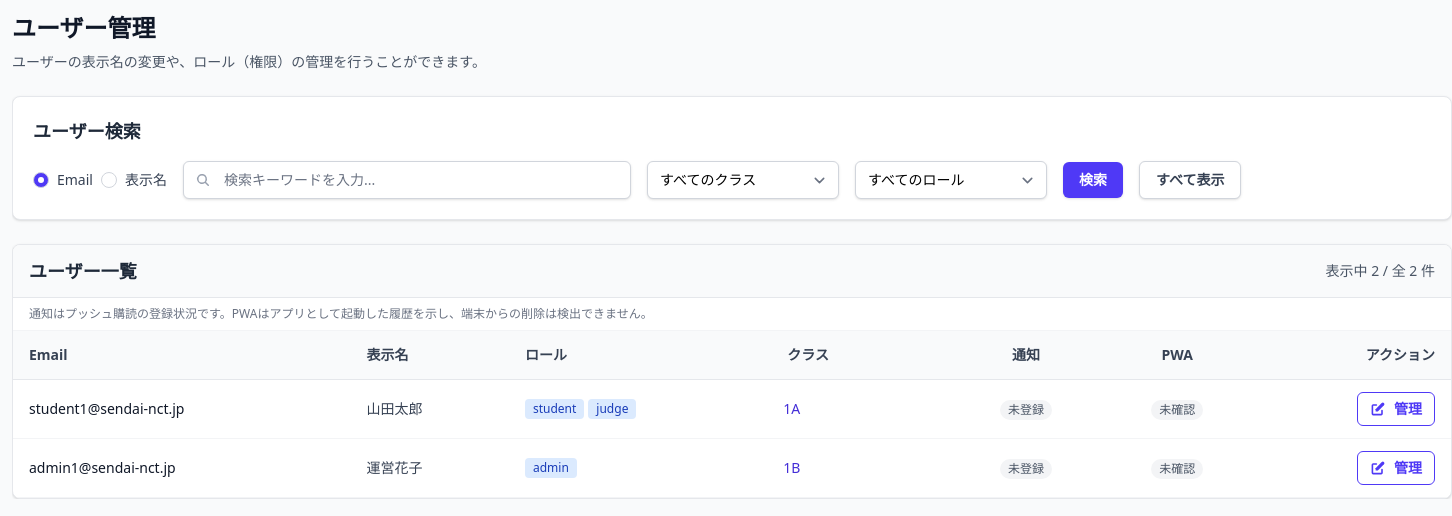
Test case: Change Username Page › クラスでユーザー一覧を絞り込みできる
Expected: the text "student1@sendai-nct.jp" is shown, [13,380,350,438]
Expected: the text named "表示中ユーザー数" reads "表示中 2 / 全 2 件", [1326,261,1435,280]
Step 1. Select "1B" in the dropdown named "クラスで絞り込み" → point(743, 180), box [647,161,839,199]
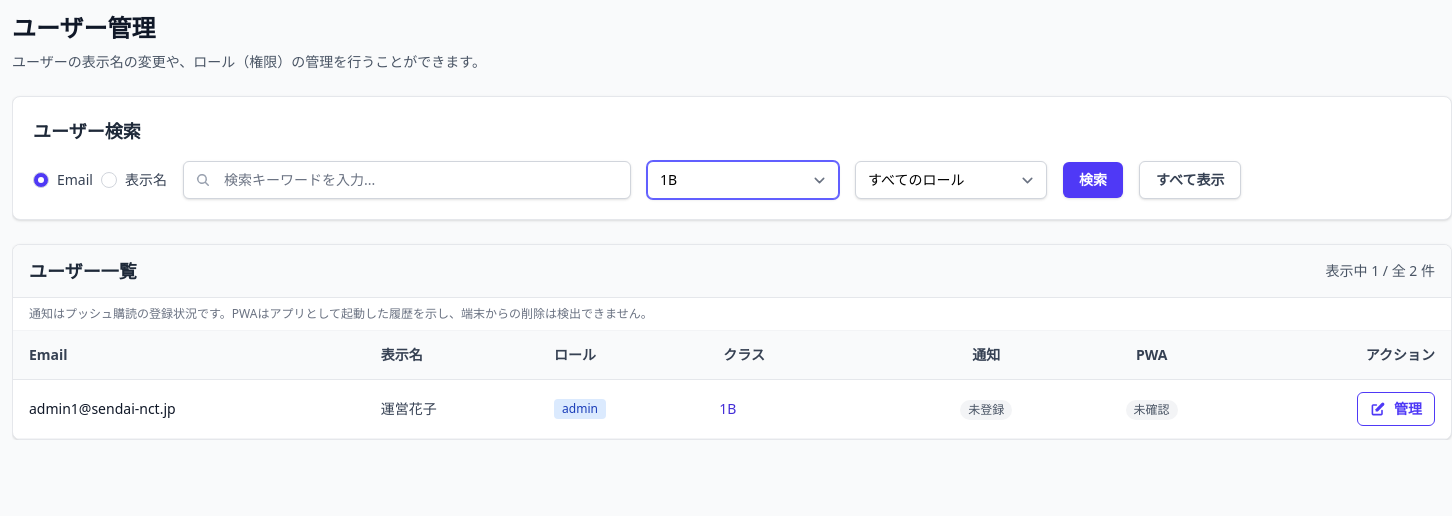
Expected: the text named "表示中ユーザー数" reads "表示中 1 / 全 2 件", [1326,261,1435,280]
Step 2. Click the button "すべて表示" → point(1190, 180), box [1139,161,1242,199]
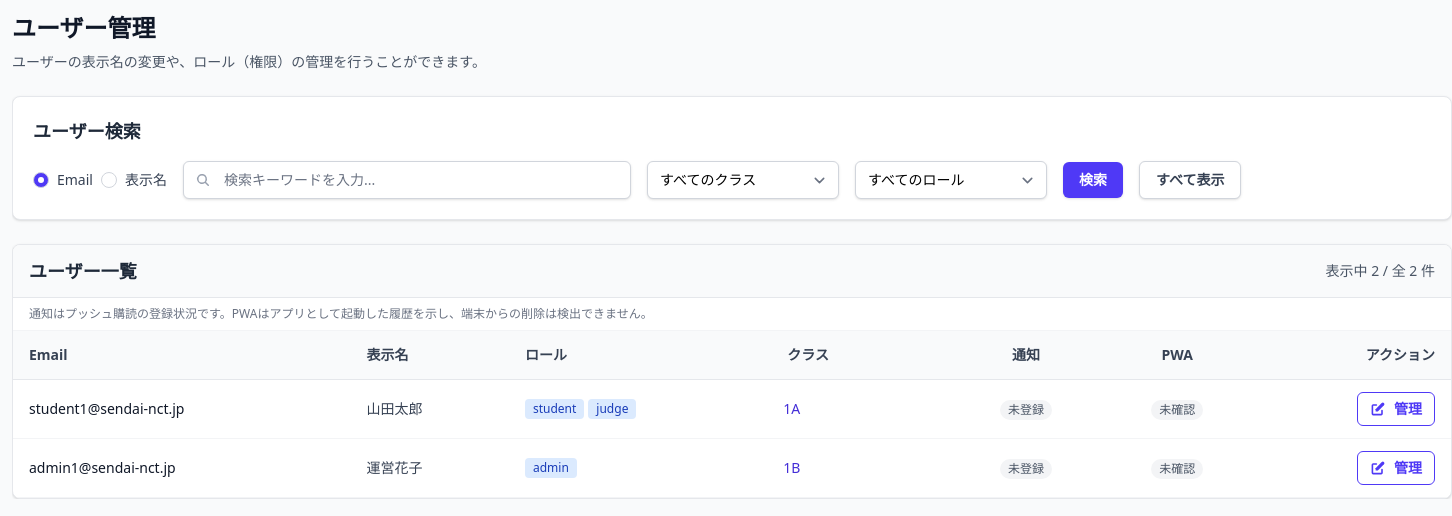
Expected: the text "student1@sendai-nct.jp" is shown, [13,380,350,438]
Expected: the text named "表示中ユーザー数" reads "表示中 2 / 全 2 件", [1326,261,1435,280]
